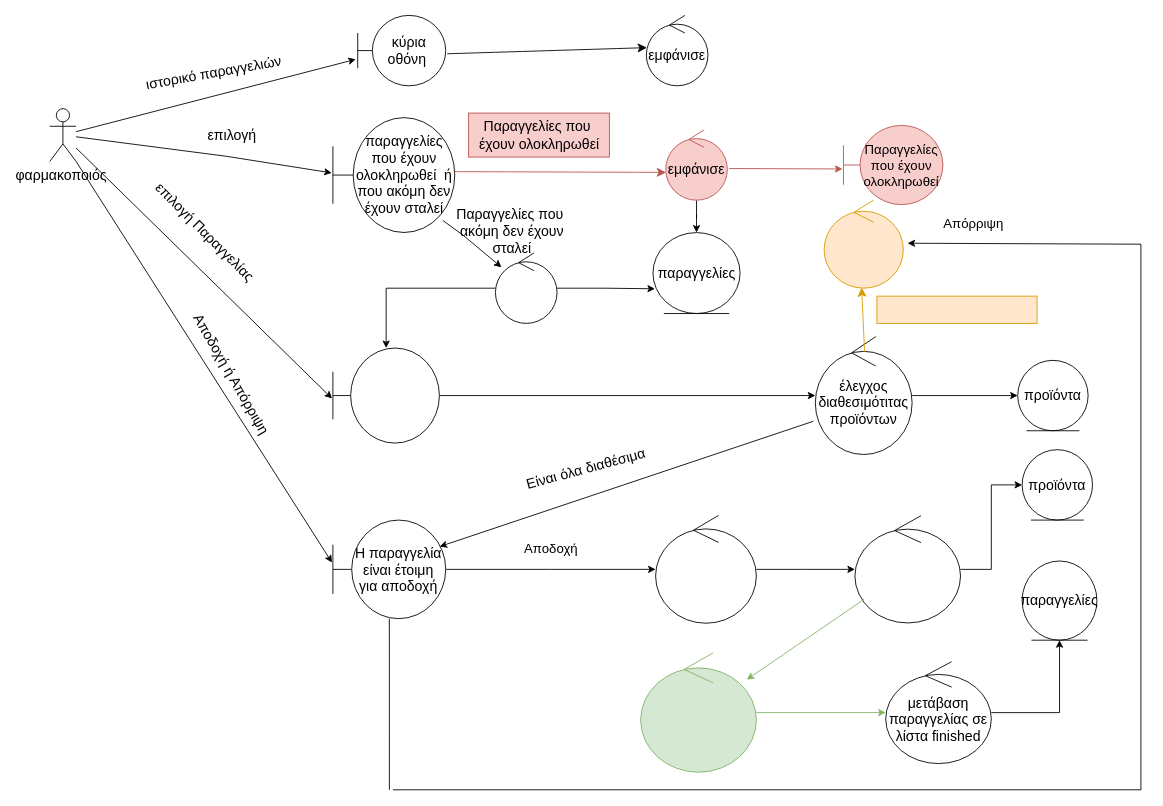
Some shapes in this 1163 by 806 pixel diagram are drawn without their labels. Each missing label, with the box of its shape:
δεν είναι όλα διαθέσιμα: (876, 295, 1037, 323)
εμφανισε: (495, 252, 557, 323)
ενημέρωση πελάτη αποδοχη παραγγελίας: (655, 515, 756, 623)
ενημέρωση πελάτη για απόρριψη: (823, 199, 903, 288)
Μετάβαση των συγκεκριμένων προϊόντων στη λίστα out-of-stock: (640, 652, 756, 772)
παραγγελίες που έχουν ακόμα δεν έχουν σταλεί: (332, 347, 439, 443)
Τροποποίηση stock: (854, 515, 961, 623)
